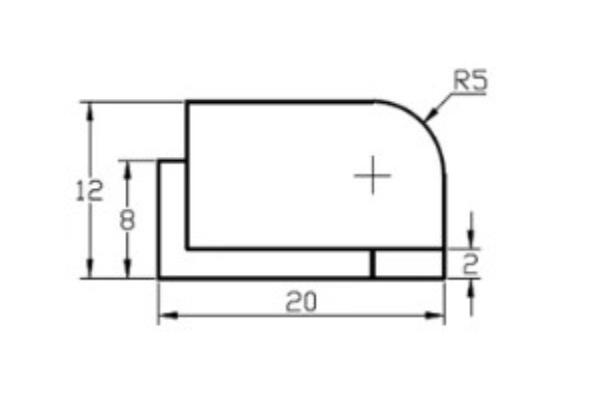dimensions: (450, 60, 493, 97), (279, 285, 325, 316), (71, 174, 107, 207), (459, 248, 485, 279), (116, 202, 139, 236)
